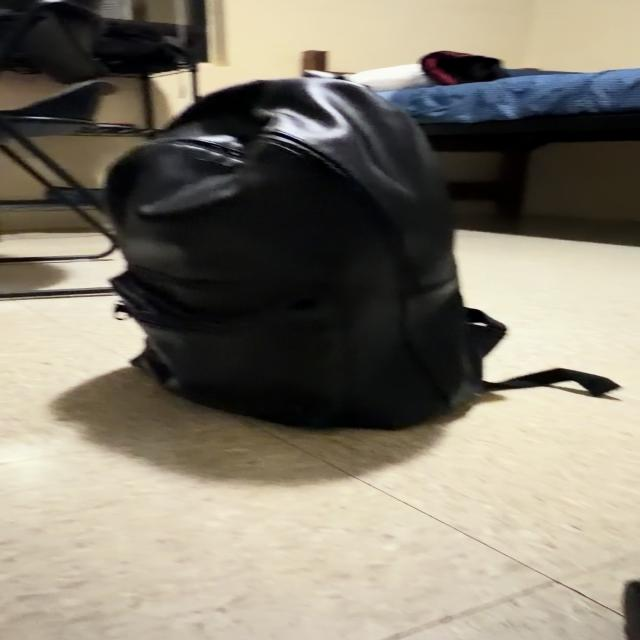backpack: (107, 78, 617, 428)
